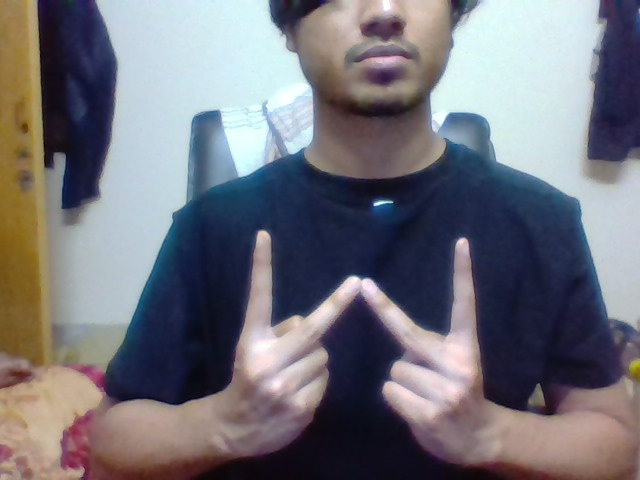W: (238, 217, 489, 356)
